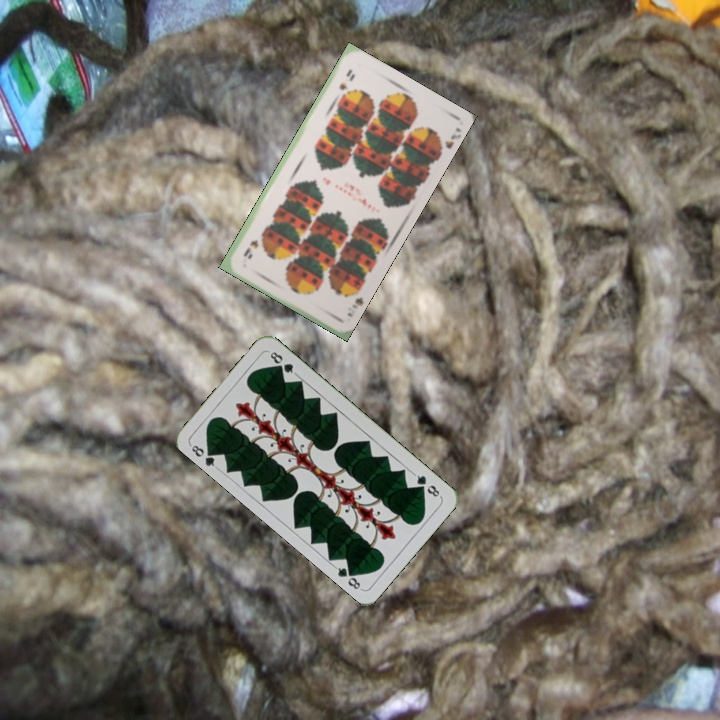G8: (409, 470, 443, 500), (186, 441, 220, 471)
S9: (343, 283, 366, 320), (335, 65, 356, 93)
